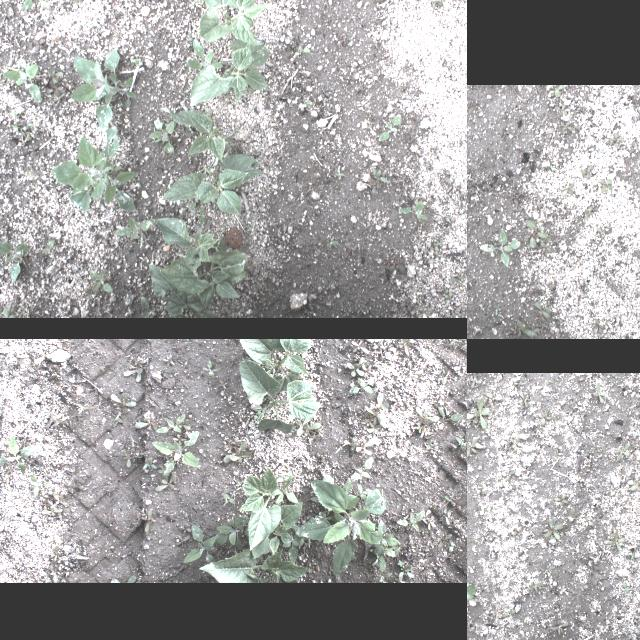crop: (160, 152, 266, 218), (238, 355, 320, 431), (190, 38, 270, 108), (242, 468, 302, 556), (160, 251, 248, 309), (158, 106, 236, 166), (148, 262, 222, 318), (198, 548, 312, 582), (235, 339, 311, 390), (199, 0, 270, 45), (156, 218, 227, 262)
weed: (296, 480, 386, 578), (48, 126, 136, 214), (70, 48, 136, 132), (152, 430, 202, 472), (3, 58, 41, 102), (467, 389, 504, 433), (480, 228, 520, 266), (0, 236, 29, 286), (0, 435, 36, 474), (182, 523, 216, 563), (114, 216, 156, 248), (185, 39, 223, 70), (212, 514, 246, 548), (370, 518, 400, 556), (149, 116, 175, 154), (270, 472, 298, 502), (282, 530, 308, 562), (536, 516, 566, 542), (366, 392, 388, 426), (378, 112, 402, 142), (398, 198, 428, 220), (526, 218, 548, 248), (223, 441, 253, 463), (88, 268, 114, 292), (350, 454, 372, 482), (368, 167, 388, 196), (602, 528, 626, 552), (513, 320, 542, 339), (386, 250, 408, 274), (400, 511, 424, 532), (157, 413, 185, 431), (296, 419, 326, 435), (122, 358, 142, 382), (467, 580, 481, 614), (30, 474, 50, 496), (355, 436, 379, 454), (590, 379, 608, 403), (349, 376, 375, 392), (438, 406, 462, 422), (502, 433, 522, 452), (46, 80, 66, 98), (346, 356, 364, 376), (513, 388, 531, 408), (537, 407, 555, 427), (614, 443, 632, 463), (548, 620, 568, 638), (140, 295, 156, 317), (397, 559, 413, 581), (20, 0, 52, 10), (534, 300, 550, 320), (155, 475, 175, 491), (376, 560, 392, 580), (467, 434, 479, 459), (608, 130, 624, 148), (134, 417, 158, 429), (33, 348, 51, 364), (474, 502, 492, 518), (109, 394, 137, 404), (554, 494, 570, 511), (142, 510, 154, 532), (40, 238, 56, 254), (541, 563, 557, 579), (417, 408, 438, 420), (207, 360, 221, 378), (358, 482, 372, 500), (456, 430, 467, 452), (399, 339, 414, 355), (46, 68, 62, 82), (598, 177, 612, 193), (550, 84, 566, 98), (42, 507, 64, 517), (628, 475, 640, 493), (467, 373, 482, 387), (560, 182, 574, 196), (580, 164, 594, 178), (446, 510, 460, 524), (618, 580, 632, 594), (449, 274, 465, 286), (32, 38, 48, 50), (142, 457, 158, 469), (528, 581, 544, 593), (51, 544, 61, 562), (114, 574, 136, 582), (296, 44, 310, 56), (560, 120, 574, 132), (539, 238, 551, 252), (162, 352, 174, 366), (345, 436, 357, 450), (439, 533, 451, 547), (586, 455, 598, 469), (444, 217, 454, 233), (122, 450, 132, 466), (175, 535, 191, 545), (334, 442, 350, 452), (628, 546, 638, 562), (221, 492, 235, 503), (0, 307, 15, 317), (325, 235, 337, 247), (21, 132, 35, 142), (554, 103, 568, 113), (442, 491, 456, 501), (503, 609, 517, 619), (335, 167, 345, 180), (595, 318, 603, 334), (426, 516, 434, 532), (432, 238, 442, 250), (596, 226, 606, 238), (55, 496, 67, 506), (425, 440, 437, 450), (544, 428, 556, 438), (188, 198, 196, 212), (337, 34, 348, 44), (347, 242, 355, 255), (443, 290, 453, 300), (380, 150, 390, 160), (177, 418, 187, 428), (132, 57, 144, 65), (77, 402, 89, 410), (586, 205, 592, 219), (9, 109, 19, 117), (12, 124, 22, 132), (187, 30, 197, 38), (576, 376, 586, 384), (200, 207, 204, 226), (449, 339, 459, 346), (550, 164, 558, 172), (418, 422, 424, 432), (448, 540, 454, 550), (305, 98, 313, 104), (188, 126, 194, 134), (478, 302, 484, 310), (582, 284, 586, 294), (193, 0, 202, 4), (606, 222, 612, 228), (637, 107, 640, 119), (52, 492, 58, 498), (494, 308, 498, 316), (249, 223, 253, 230), (156, 72, 160, 78)
